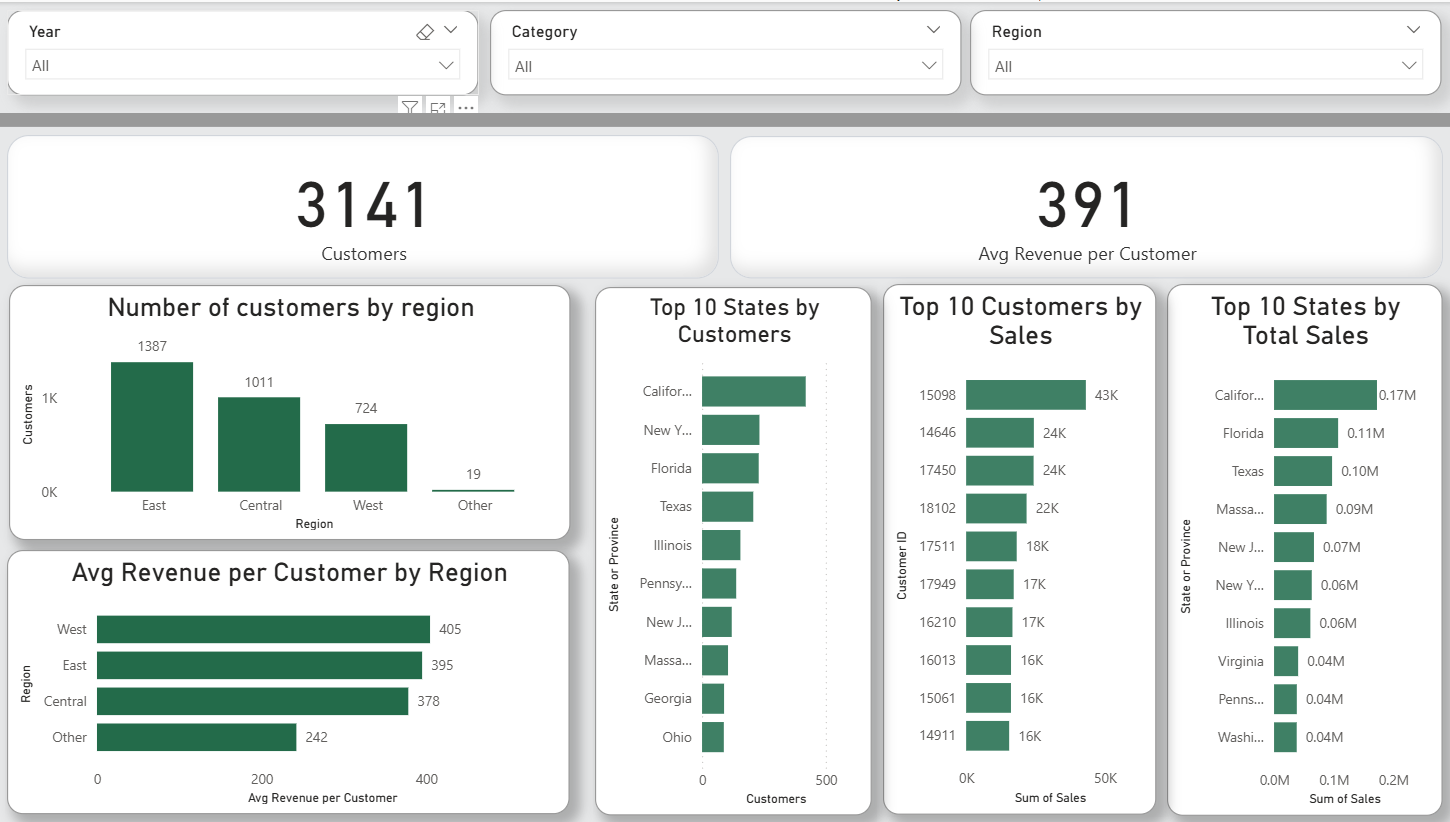

This screenshot's page, from the dashboard's own definition file:
{"tool":"powerbi","page":{"name":"Customer Analytics","canvas":[1280,720],"ordinal":1},"visuals":[{"type":"slicer","fields":{"Values":["state_mapping.Region"]},"box":[855.2,7,414.4,74.6],"z":0},{"type":"slicer","fields":{"Values":["products.Category"]},"box":[433.8,7,414.4,74.6],"z":1000},{"type":"slicer","fields":{"Values":["Market Basket.Transaction Date.Variation.Date Hierarchy.Year"]},"box":[9.7,7,414.4,74.6],"z":2000},{"type":"card","fields":{"Values":["measure.Customer LTV (avg)"]},"box":[644.3,117.9,626.1,124.6],"z":4000},{"type":"shape","box":[0,97.5,1280.2,12.3],"z":5000},{"type":"clusteredColumnChart","title":"Number of customers by region","fields":{"Category":["state_mapping.Region"],"Y":["measure.Number of Customers"]},"box":[11.1,248.9,493.3,224.4],"z":6000},{"type":"card","fields":{"Values":["measure.Number of Customers"]},"box":[9.6,117,625.1,125.6],"z":7000},{"type":"barChart","title":"Top 10 States by Total Sales","fields":{"Category":["state_mapping.State or Province"],"Y":["Sum(sales.Sales)"]},"box":[1027.8,247.4,241.6,466.9],"z":8000},{"type":"barChart","title":" Top 10 Customers by Sales   ","fields":{"Category":["customers.Customer ID"],"Y":["Sum(sales.Sales)"]},"box":[778.9,247.8,240,465.6],"z":9000},{"type":"clusteredBarChart","title":"Avg Revenue per Customer by Region","fields":{"Category":["state_mapping.Region"],"Y":["measure.Customer LTV (avg)"]},"box":[10,481.1,494.4,232.2],"z":10000},{"type":"clusteredBarChart","title":"Top 10 States by Customers","fields":{"Category":["state_mapping.State or Province"],"Y":["measure.Customers"]},"box":[525.6,250,243.3,464.4],"z":11000}]}

Visuals, with their boxes in screenshot pixels (x1, y1, x2, y2), scaled from the page's 1280x720 canvas onto the 1450x822 screenshot:
slicer - state_mapping.Region: (969,8,1438,93)
slicer - products.Category: (491,8,961,93)
slicer - Market Basket.Transaction Date.Variation.Date Hierarchy.Year: (11,8,480,93)
card - measure.Customer LTV (avg): (730,135,1439,277)
shape: (0,111,1449,125)
"Number of customers by region" clusteredColumnChart: (13,284,571,540)
card - measure.Number of Customers: (11,134,719,277)
"Top 10 States by Total Sales" barChart: (1164,282,1438,815)
" Top 10 Customers by Sales   " barChart: (882,283,1154,814)
"Avg Revenue per Customer by Region" clusteredBarChart: (11,549,571,814)
"Top 10 States by Customers" clusteredBarChart: (595,285,871,816)
